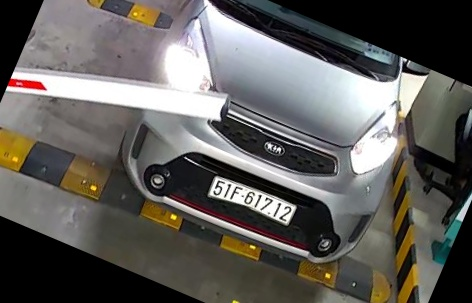plate: (204, 175, 291, 228)
